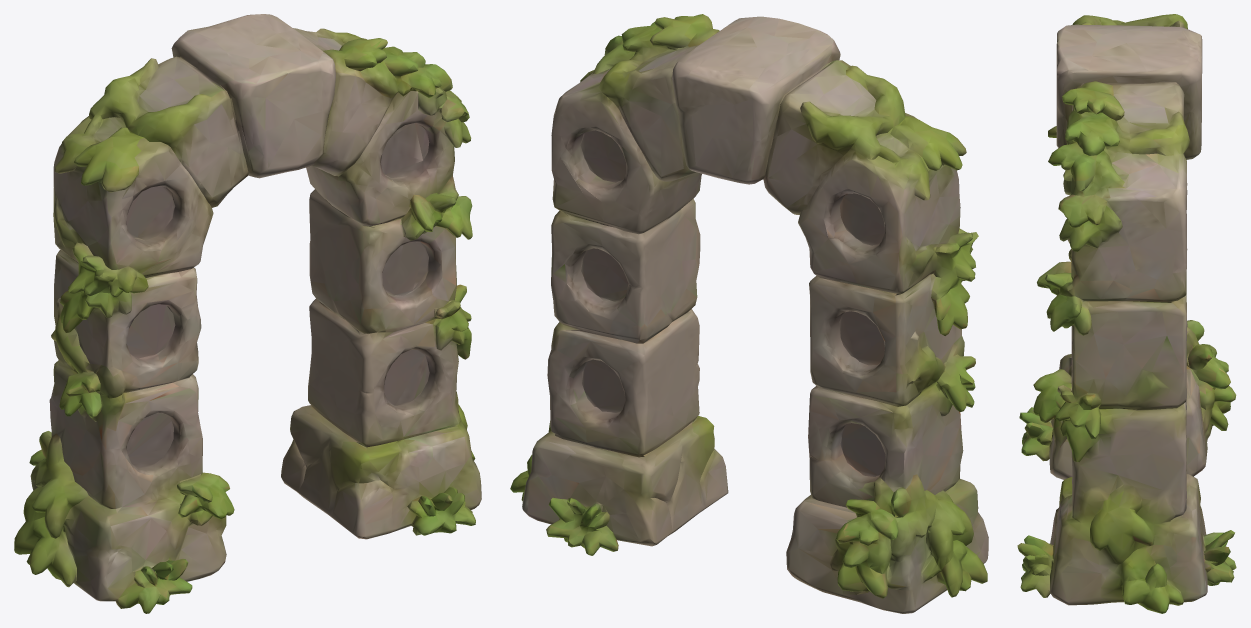
The model's file is arco_ruina.glb.
3 views of the same model, side by side, from view 1: azimuth 30°, elevation 25°; view 2: azimuth 150°, elevation 25°; view 3: azimuth 270°, elevation 25° (orthographic). The views are drawn at different scales.
Visible parts, largest first — view 1: arco_ruina_malla; view 2: arco_ruina_malla; view 3: arco_ruina_malla.
Part boxes in pixels (x1,y1,x2,y2): arco_ruina_malla: [14, 14, 481, 613]; arco_ruina_malla: [510, 14, 988, 613]; arco_ruina_malla: [1017, 14, 1236, 613].
Bounding box in the file's own units: 0.272 × 0.2856 × 0.118.
Materials: 1 (1 with a texture image).
